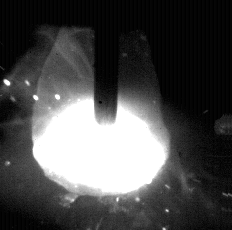arame: (95, 0, 119, 124)
poca: (31, 0, 171, 230)
